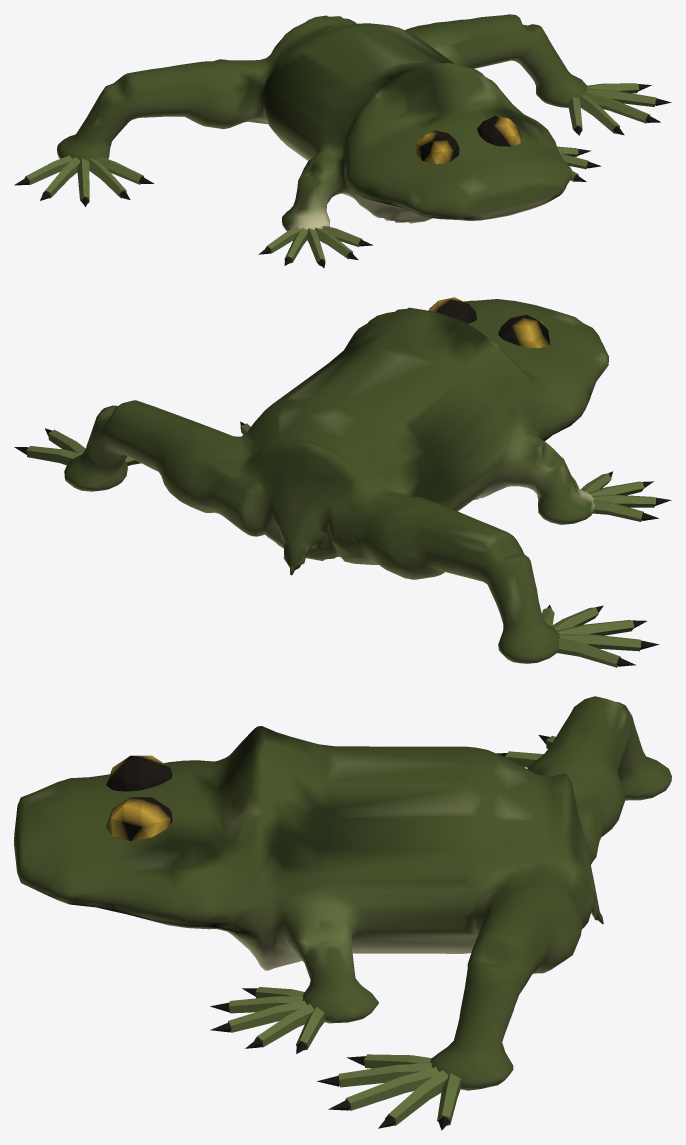
File: Prosalirus.fbx
3 views of the same model, one above another, from view 1: azimuth 30°, elevation 25°; view 2: azimuth 150°, elevation 25°; view 3: azimuth 270°, elevation 25° (orthographic). The views are drawn at different scales.
Parts seen in each view (by area): view 1: Prosalirus; view 2: Prosalirus; view 3: Prosalirus.
Part boxes in pixels (<box>): Prosalirus: <box>14,14,671,267</box>; Prosalirus: <box>14,297,671,667</box>; Prosalirus: <box>14,696,671,1130</box>.
Bounding box in the file's own units: 0.7573 × 0.1952 × 0.5289.
